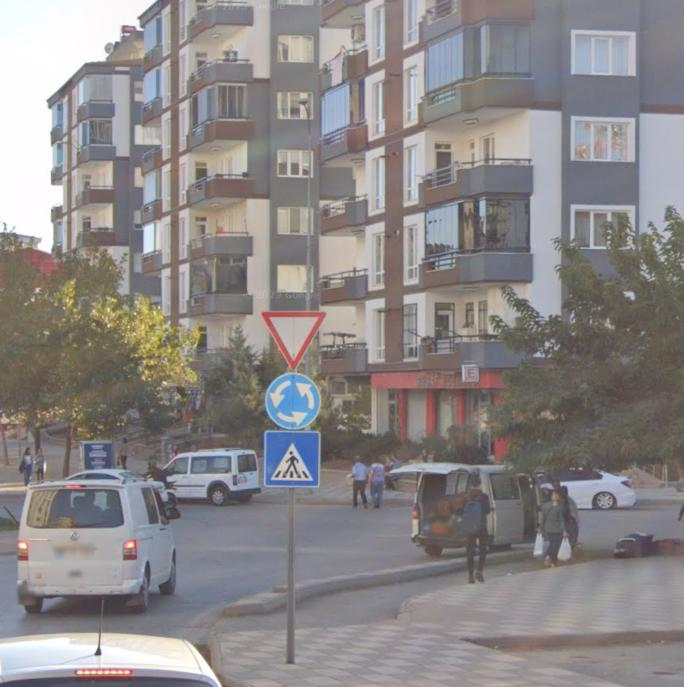crossroads: (260, 367, 328, 432)
